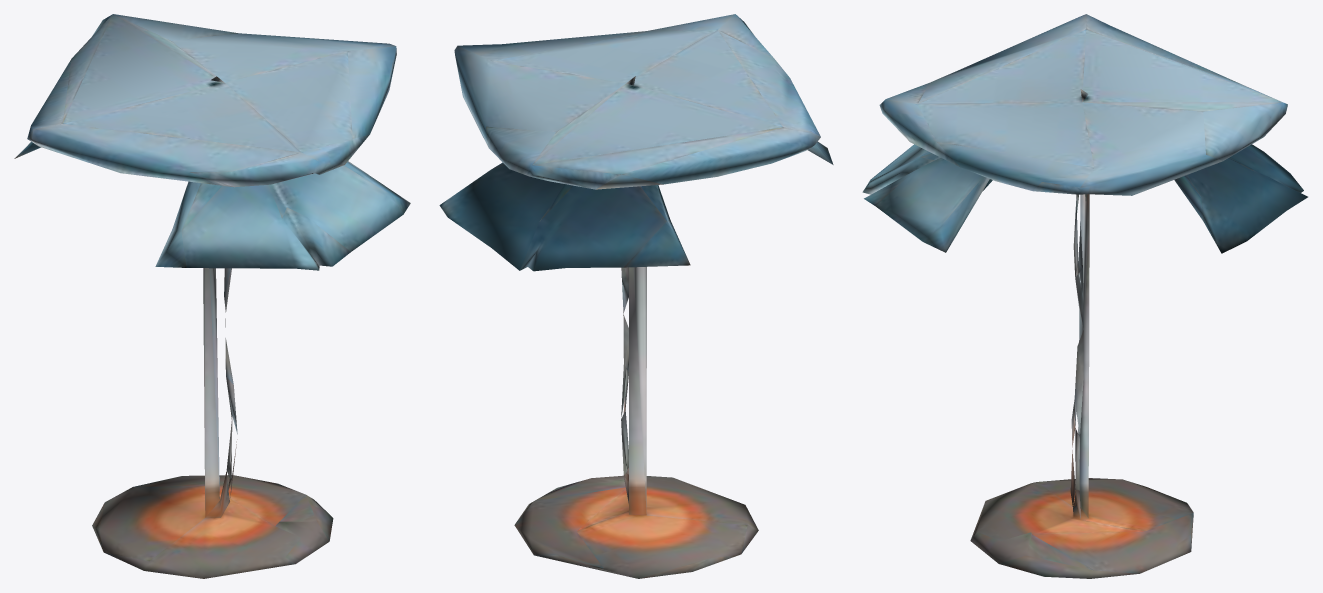
The model's file is prop3d-parasol.glb.
3 views of the same model, side by side, from view 1: azimuth 30°, elevation 25°; view 2: azimuth 150°, elevation 25°; view 3: azimuth 270°, elevation 25° (orthographic). The views are drawn at different scales.
Size of the model in its own units: 1.69 by 2 by 1.83.
Materials: 1 (1 with a texture image).
